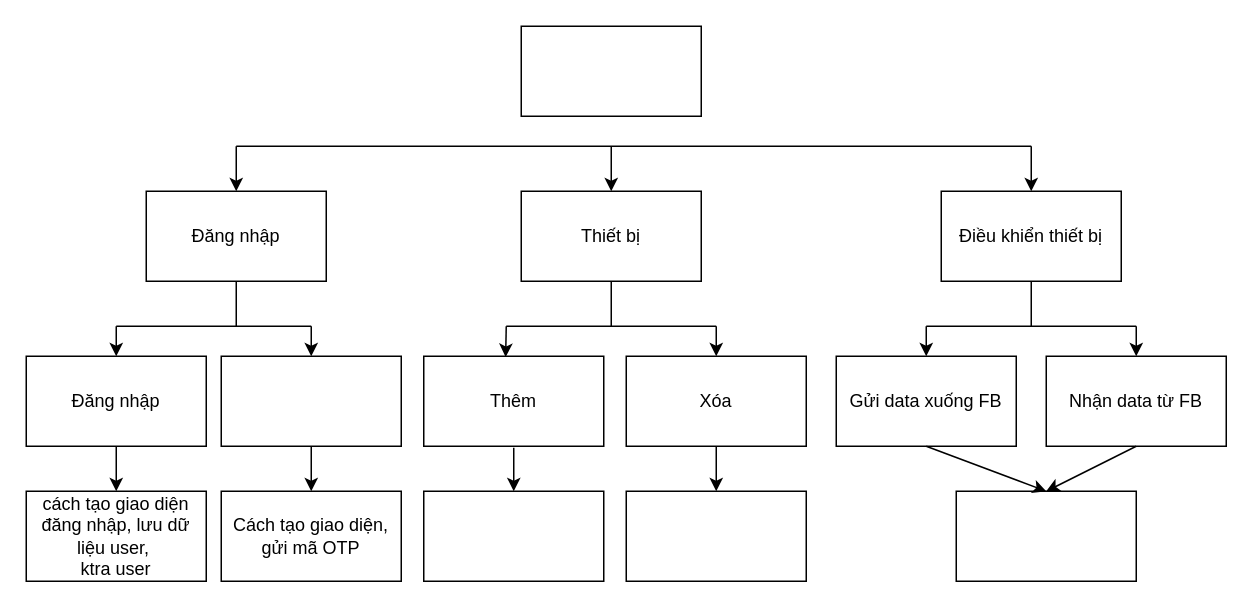
Some shapes in this 1253 by 608 pixel diagram are drawn without their labels. The centre of each missing label's shape, as x and y in pixels:
"Cách gửi nhận dưới esp32" belongs at pixel 1045 535.
"cách tạo giao diện, cơ chế thêm" belongs at pixel 513 535.
"Cách tạo giao diện, cơ chế xóa" belongs at pixel 715 535.
"Yêu cầu chức năng" belongs at pixel 610 70.
"Đăng kí" belongs at pixel 310 400.
